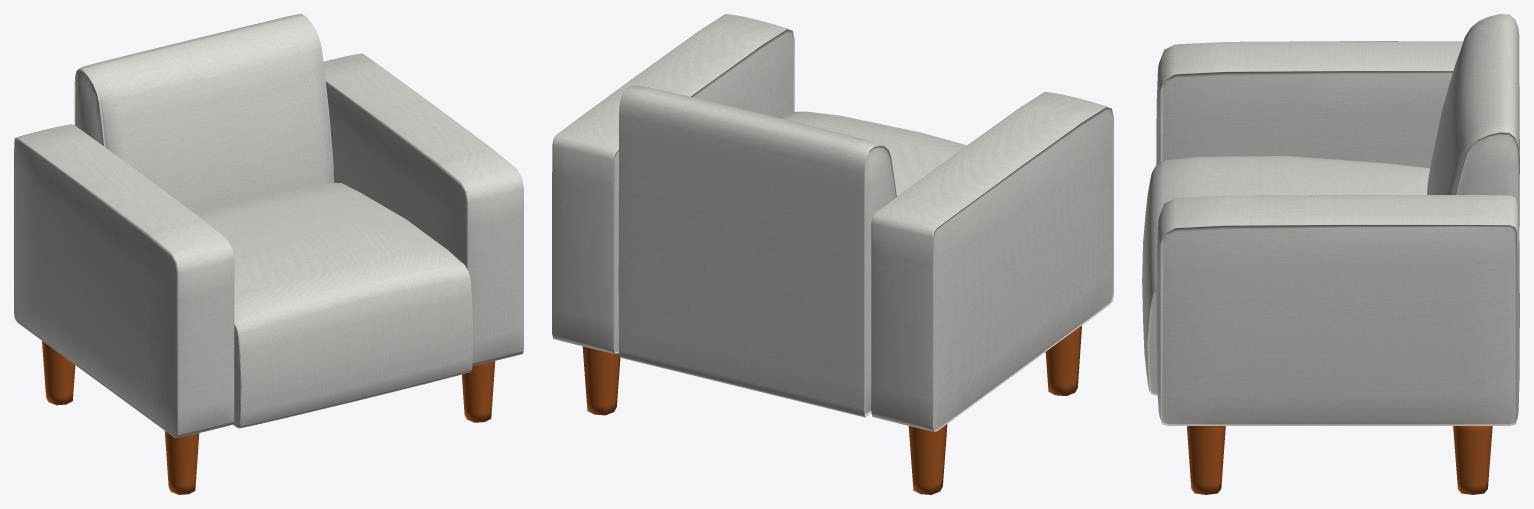
Rendered from design12.obj.
3 renders of one model, left to right at view 1: azimuth 30°, elevation 25°; view 2: azimuth 150°, elevation 25°; view 3: azimuth 270°, elevation 25°, orthographic. The views are drawn at different scales.
Parts seen in each view (by area): view 1: Box050, Box055, Box053, Box056, Box057; view 2: Box050, Box053, Box055, Box057, Box056; view 3: Box050, Box053, Box055, Box057, Box056.
Part boxes in pixels (box(x1,y1,x2,y2)): Box050: box(14, 53, 523, 437); Box055: box(194, 182, 473, 428); Box053: box(74, 14, 333, 212); Box056: box(165, 361, 495, 494); Box057: box(42, 341, 75, 405); Box050: box(552, 14, 1113, 431); Box053: box(618, 85, 896, 417); Box055: box(782, 111, 966, 196); Box057: box(582, 346, 947, 494); Box056: box(1045, 325, 1081, 395); Box050: box(1156, 41, 1519, 425); Box053: box(1427, 14, 1519, 229); Box055: box(1142, 156, 1429, 395); Box057: box(1453, 426, 1492, 494); Box056: box(1187, 426, 1225, 494).
Bounding box in the file's own units: 816 × 690 × 696.
Materials: 2 (1 with a texture image).
